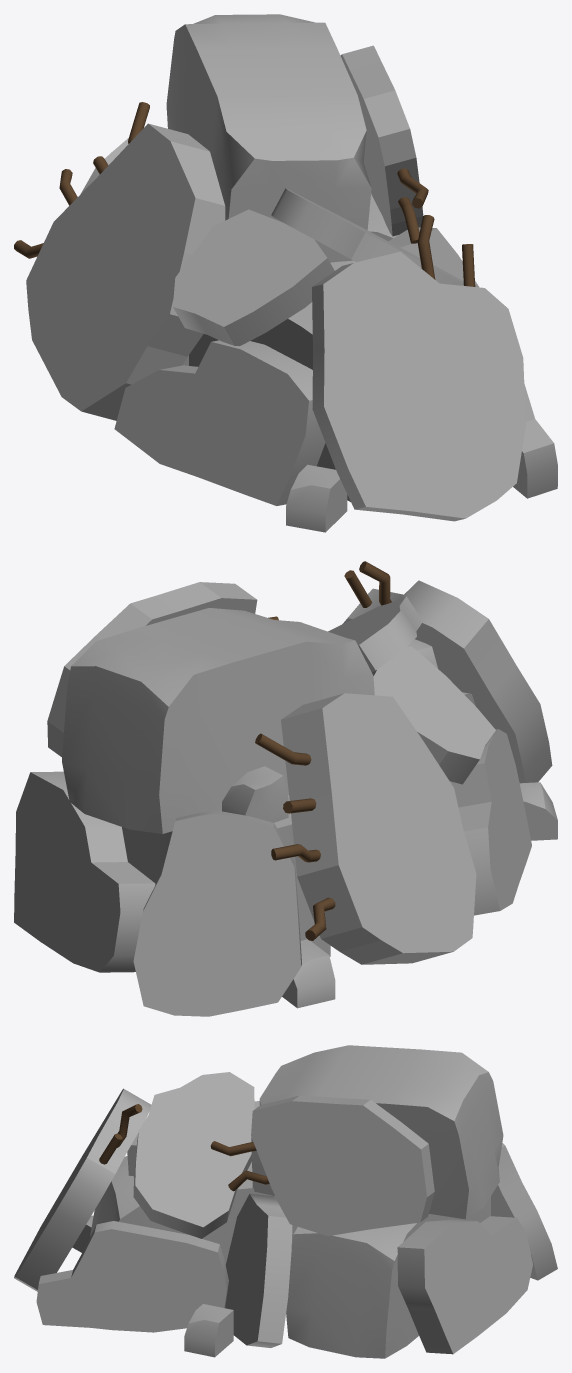
The model's file is RubblePile.fbx.
3 views of the same model, one above another, from view 1: azimuth 30°, elevation 25°; view 2: azimuth 150°, elevation 25°; view 3: azimuth 270°, elevation 25° (orthographic). The views are drawn at different scales.
Visible parts, largest first — view 1: pCube8, pCube1, pCube7, pCube3, pCube4, pCube12, pCube9, pCube15, pCube5, pCube10, pCube11, pasted__pCylinder3 (+1 smaller); view 2: pCube7, pCube1, pCube14, pCube13, pCube8, pCube3, pCube4, pCube12, pCube9, pCube6, pasted__pCube15, pasted__pCube16 (+5 smaller); view 3: pCube12, pCube7, pCube10, pCube9, pCube6, pCube13, pCube11, pCube8, pCube5, pCube14, pCube16, pCylinder6 (+1 smaller).
Boxes of the visible parts, x1,y1,x2,y2 form: pCube8: (312,251,525,521); pCube1: (26,123,225,420); pCube7: (166,14,371,262); pCube3: (114,340,325,505); pCube4: (173,209,334,346); pCube12: (340,45,423,236); pCube9: (271,188,463,285); pCube15: (286,464,347,532); pCube5: (189,260,355,501); pCube10: (513,384,557,498); pCube11: (388,227,478,287); pasted__pCylinder3: (417,215,435,279); pCube7: (62,608,374,833); pCube1: (281,693,476,964); pCube14: (133,810,301,1016); pCube13: (14,771,155,972); pCube8: (343,580,552,783); pCube3: (450,729,531,915); pCube4: (373,646,495,784); pCube12: (47,582,257,756); pCube9: (328,596,422,672); pCube6: (122,795,330,956); pasted__pCube15: (222,766,288,822); pasted__pCube16: (282,939,335,1008); pCube12: (251,1095,434,1236); pCube7: (251,1045,503,1219); pCube10: (36,1221,228,1332); pCube9: (133,1072,254,1238); pCube6: (286,1196,490,1358); pCube13: (397,1216,532,1354); pCube11: (225,1193,292,1347); pCube8: (14,1088,151,1291); pCube5: (90,1155,297,1264); pCube14: (491,1143,557,1280); pCube16: (184,1304,233,1357); pCylinder6: (210,1141,256,1156).
Bounding box in the file's own units: 4.3 × 3.21 × 6.6.
